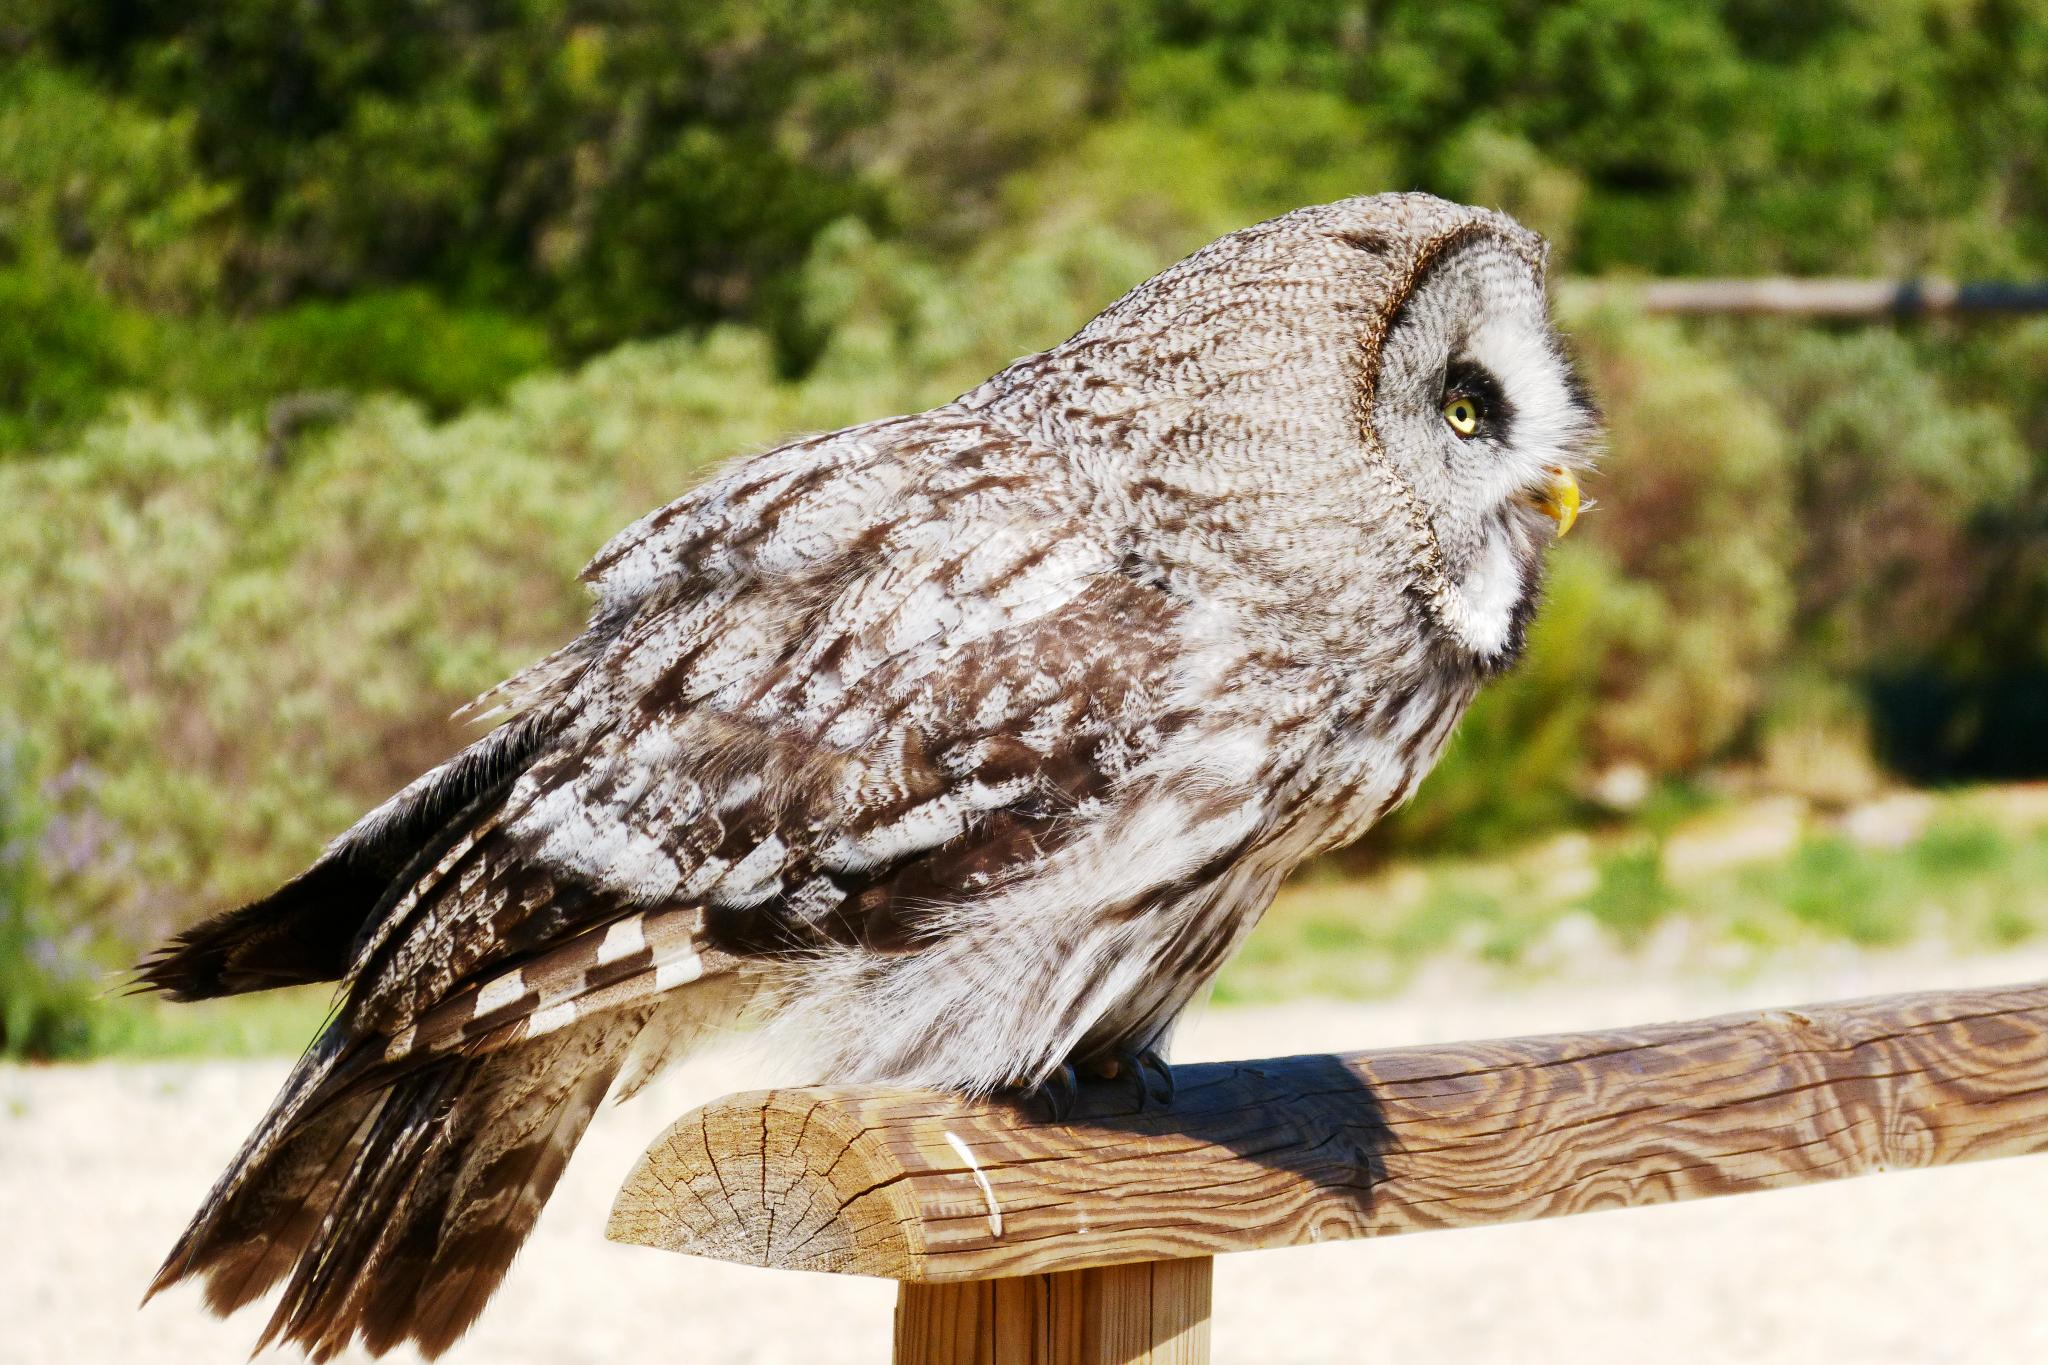Owl: (91, 190, 1613, 1365)
